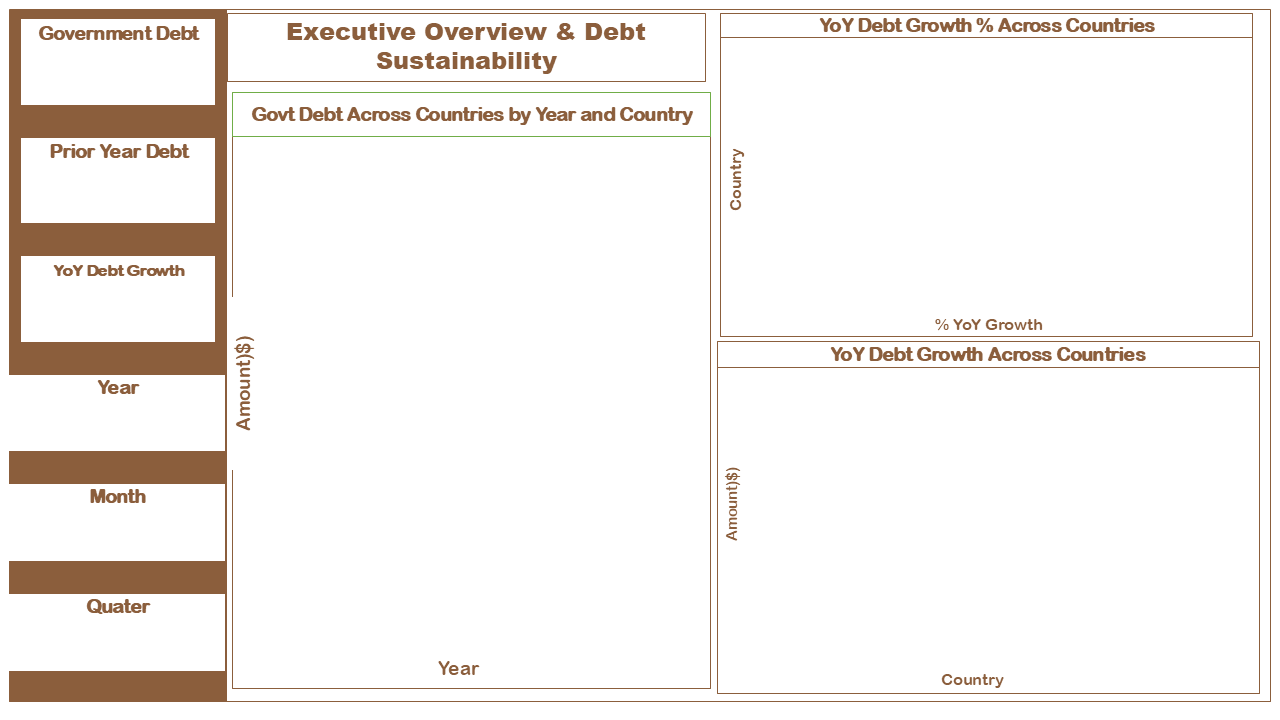

The dashboard page shown, as its layout file describes it:
{"tool":"powerbi","page":{"name":"Page 1","canvas":[1280,720],"ordinal":0},"visuals":[{"type":"lineChart","title":"Govt Debt Across Countries by Year and Country","fields":{"Category":["Calendar.Year"],"Y":["Sum(fact_economic_data_cleaned.Amount_USD)"],"Series":["Dim_Country.Country"]},"box":[257,136.6,442.4,525.4],"z":0},{"type":"clusteredBarChart","title":"YoY Debt Growth % Across Countries","fields":{"Category":["Dim_Country.Country"],"Y":["Govt_Debt KPI.YoY Debt Growth %"]},"box":[718.9,0,548.1,326.9],"z":1000},{"type":"columnChart","title":"YoY Debt Growth Analysis Across Countries","fields":{"Category":["Dim_Country.Country"],"Y":["Govt_Debt KPI.YoY Debt Growth1"]},"box":[735.2,359.5,501,302.5],"z":2000},{"type":"slicer","fields":{"Values":["Calendar.Year"]},"box":[6.5,390.4,218,73.2],"z":3000},{"type":"slicer","fields":{"Values":["Calendar.Month"]},"box":[17.9,497.7,206.6,53.7],"z":4000},{"type":"slicer","fields":{"Values":["Calendar.Quarter"]},"box":[17.9,614.8,206.6,47.2],"z":5000},{"type":"cardVisual","fields":{"Data":["Govt_Debt KPI.YoY Debt Growth1"]},"box":[11.4,258.6,206.6,87.8],"z":6000},{"type":"cardVisual","fields":{"Data":["Govt_Debt KPI.YoY Debt Growth %"]},"box":[126.9,286.3,115.5,73.2],"z":7000},{"type":"cardVisual","fields":{"Data":["Govt_Debt KPI.Total Debt"]},"box":[19.5,21.1,198.4,87.8],"z":8000},{"type":"cardVisual","fields":{"Data":["Govt_Debt KPI.Previous Year Debt"]},"box":[19.5,136.6,191.9,92.7],"z":9000}]}

Visuals, with their boxes in screenshot pixels (x1, y1, x2, y2), scaled from the page's 1280x720 canvas onto the 1280x720 screenshot:
"Govt Debt Across Countries by Year and Country" lineChart: left=257, top=137, right=699, bottom=662
"YoY Debt Growth % Across Countries" clusteredBarChart: left=719, top=0, right=1267, bottom=327
"YoY Debt Growth Analysis Across Countries" columnChart: left=735, top=360, right=1236, bottom=662
slicer - Calendar.Year: left=6, top=390, right=224, bottom=464
slicer - Calendar.Month: left=18, top=498, right=224, bottom=551
slicer - Calendar.Quarter: left=18, top=615, right=224, bottom=662
cardVisual - Govt_Debt KPI.YoY Debt Growth1: left=11, top=259, right=218, bottom=346
cardVisual - Govt_Debt KPI.YoY Debt Growth %: left=127, top=286, right=242, bottom=360
cardVisual - Govt_Debt KPI.Total Debt: left=20, top=21, right=218, bottom=109
cardVisual - Govt_Debt KPI.Previous Year Debt: left=20, top=137, right=211, bottom=229
